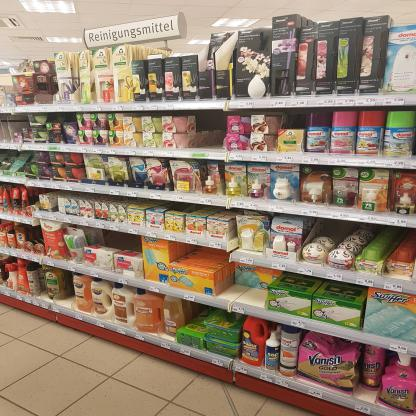Void: (94, 228, 144, 254), (175, 245, 227, 268), (199, 110, 226, 148), (229, 277, 263, 304), (66, 268, 74, 304)
